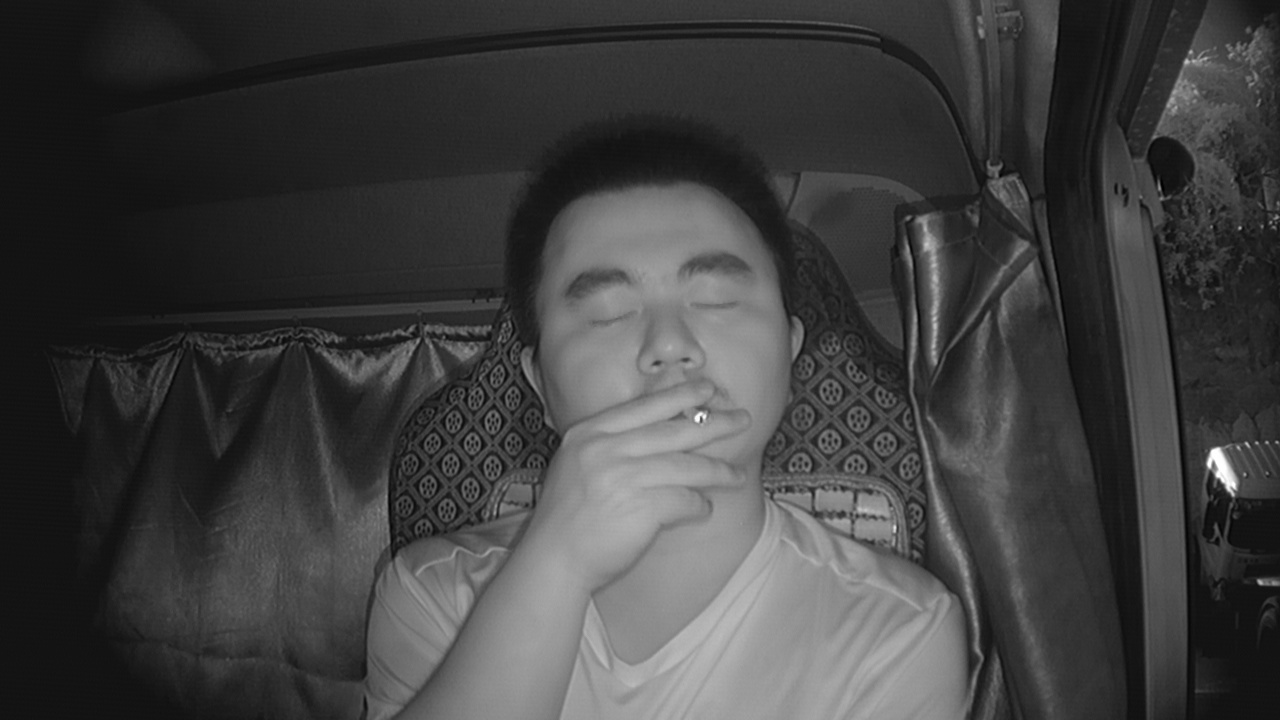hand: (552, 388, 755, 540)
